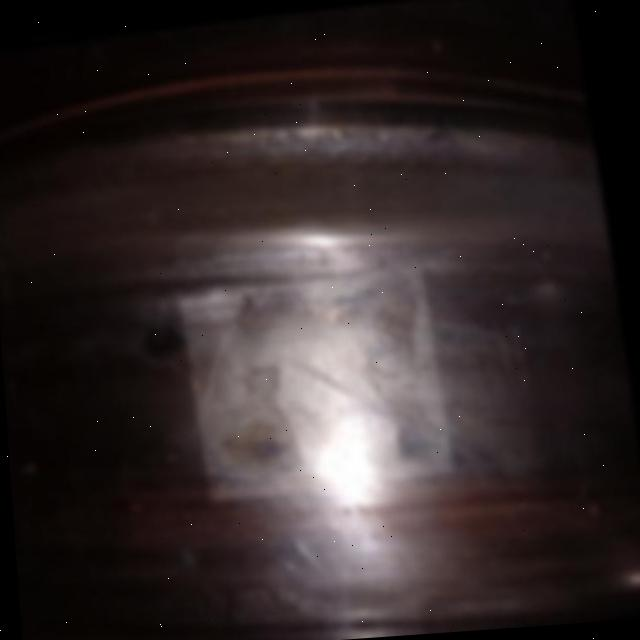flat: (97, 226, 565, 524)
